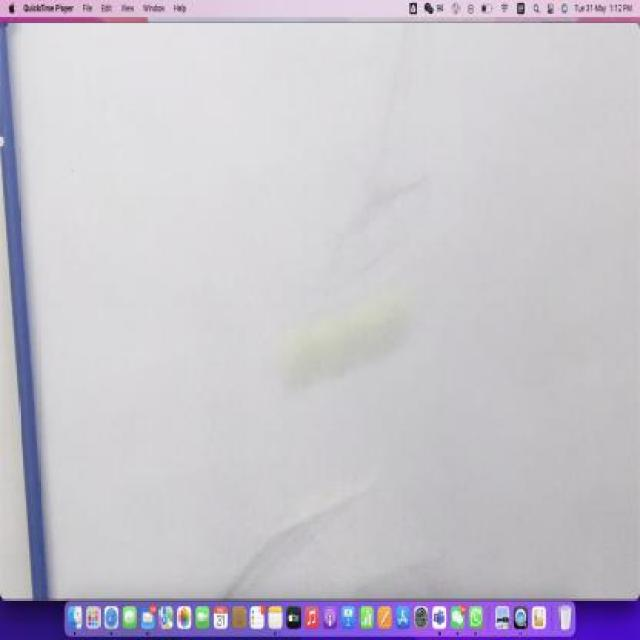baseball: (282, 269, 436, 400)
